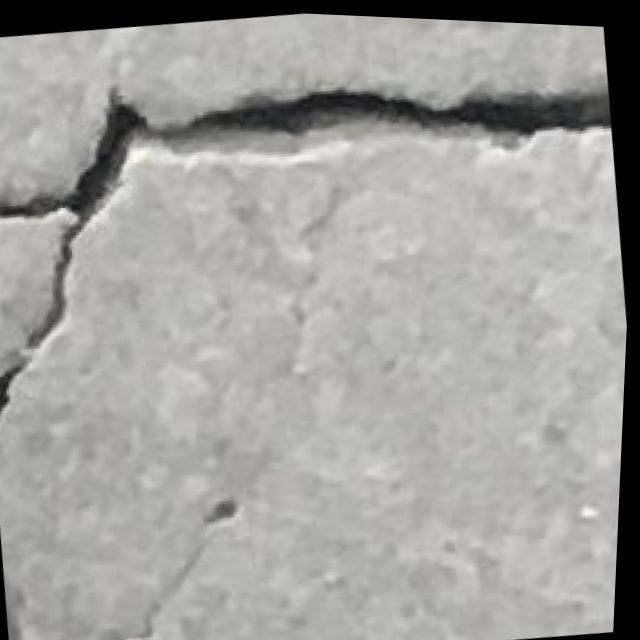Crack: (0, 5, 640, 468), (53, 490, 265, 640)
